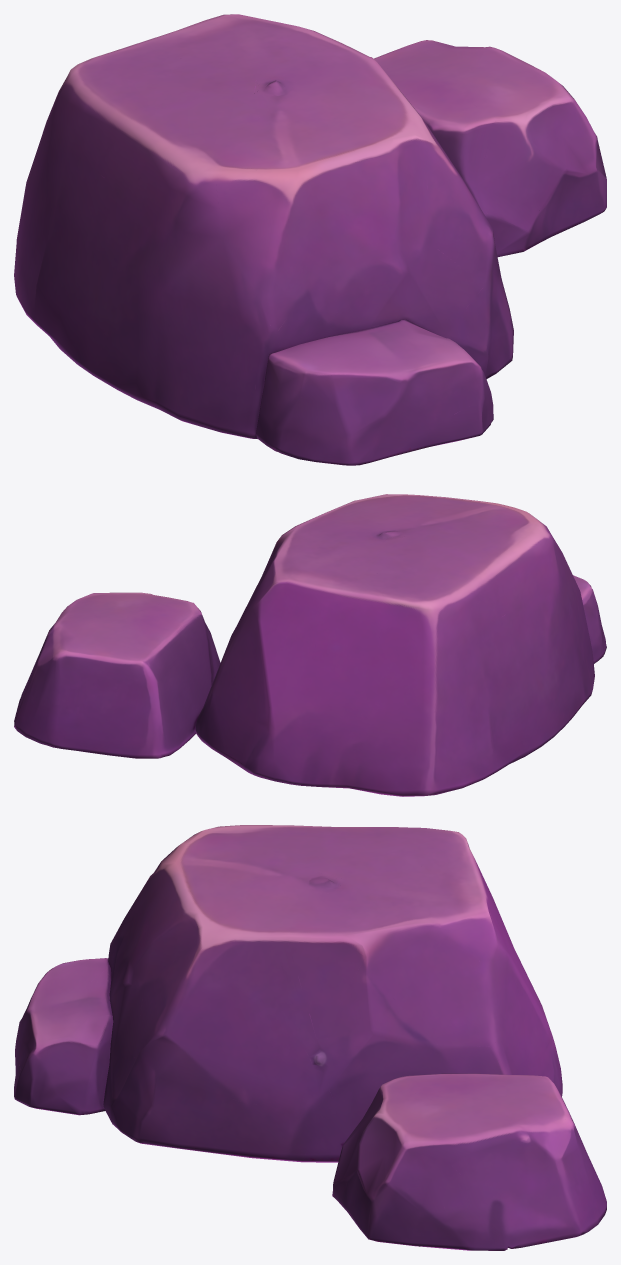
The model's file is Stone_1.glb.
3 views of the same model, one above another, from view 1: azimuth 30°, elevation 25°; view 2: azimuth 150°, elevation 25°; view 3: azimuth 270°, elevation 25° (orthographic). The views are drawn at different scales.
Visible parts, largest first — view 1: geometry_0; view 2: geometry_0; view 3: geometry_0.
Part boxes in pixels (<box>): geometry_0: <box>14,14,606,465</box>; geometry_0: <box>14,494,606,796</box>; geometry_0: <box>14,825,606,1250</box>.
Size of the model in its own units: 0.9512 by 0.375 by 0.9492.
1 material, 1 textured.
